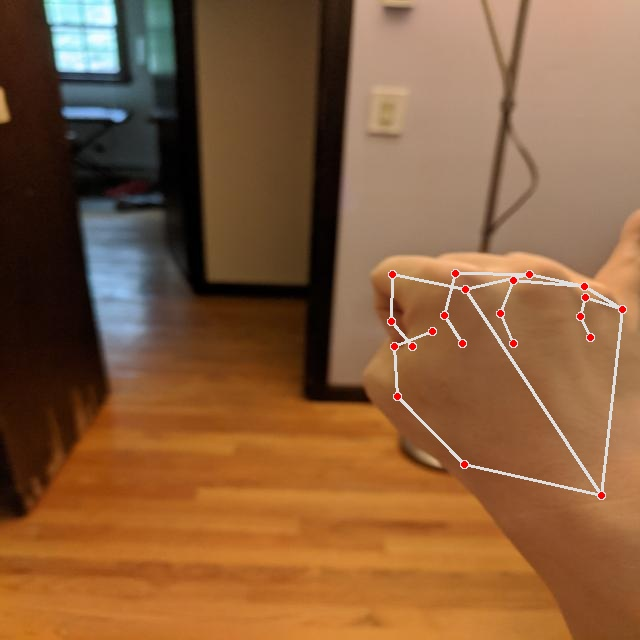J: (348, 188, 640, 471)
